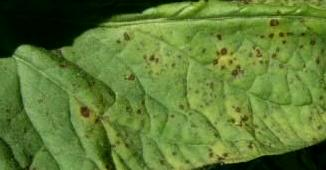Tomato Early blight leaf: (6, 0, 326, 170)
